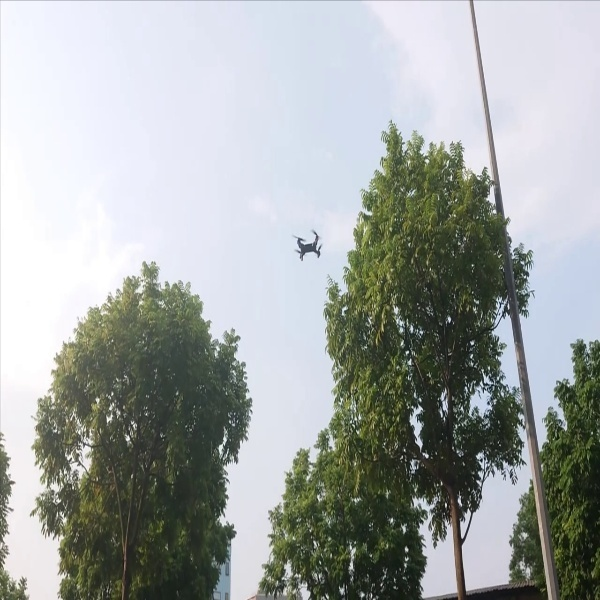drone: (292, 225, 325, 267)
